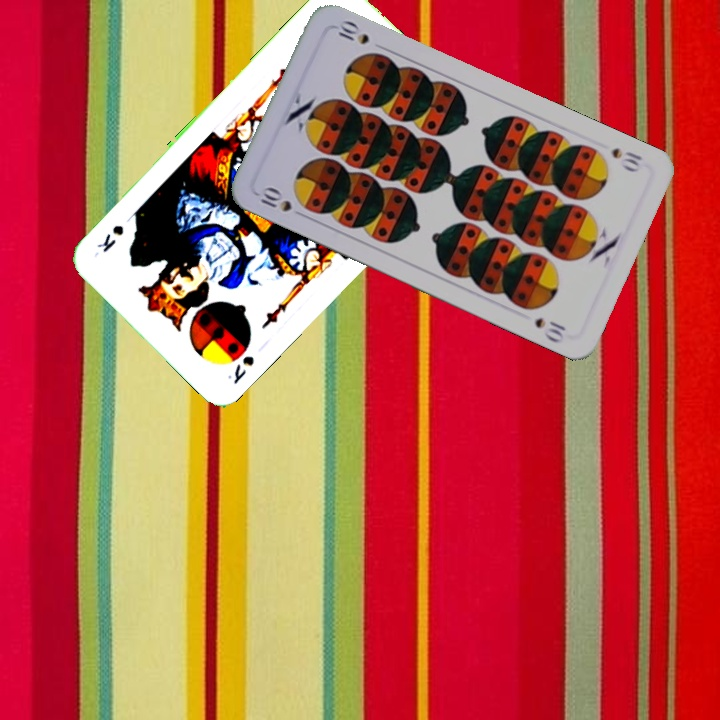S10: (253, 183, 295, 215), (607, 143, 646, 175)
SK: (223, 351, 257, 387)
